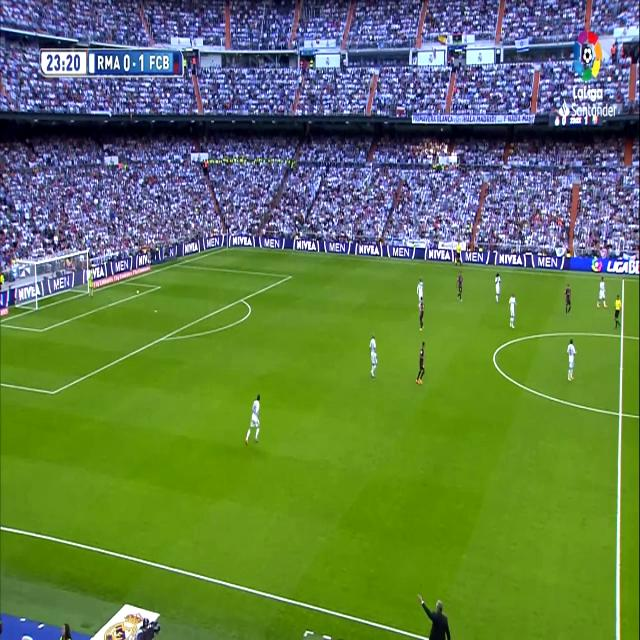halfcircle_bottom: (616, 400, 626, 426)
halfcircle_top: (618, 326, 627, 345)
midline_top_intersection: (620, 273, 626, 284)
top_arc_area_intersection: (239, 292, 245, 305)
